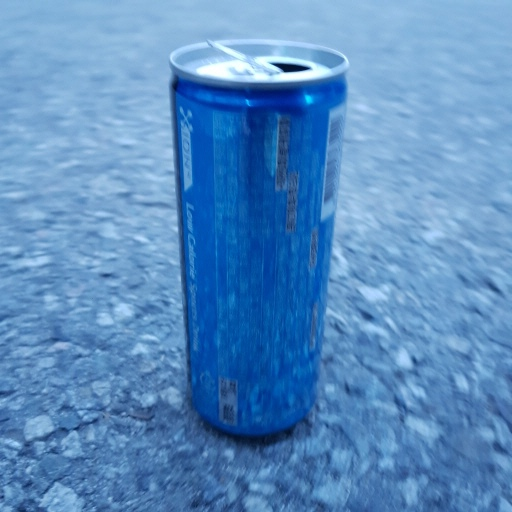Metal_0: (168, 37, 355, 441)
